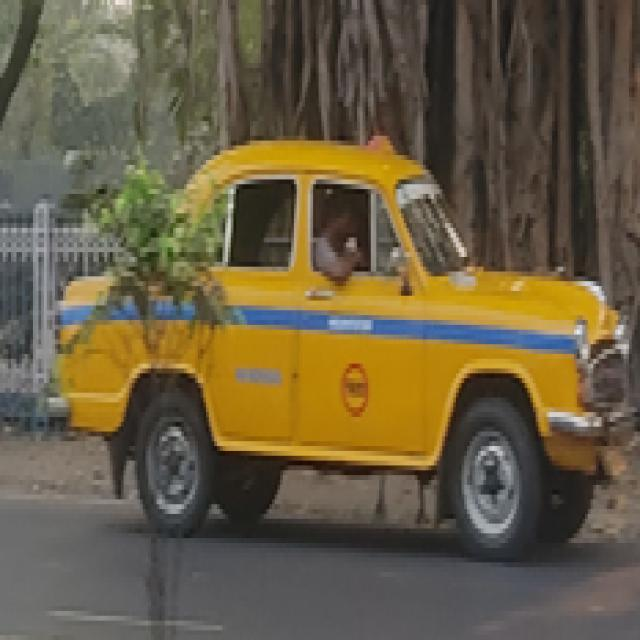ambasador_taxi: (53, 133, 634, 562)
